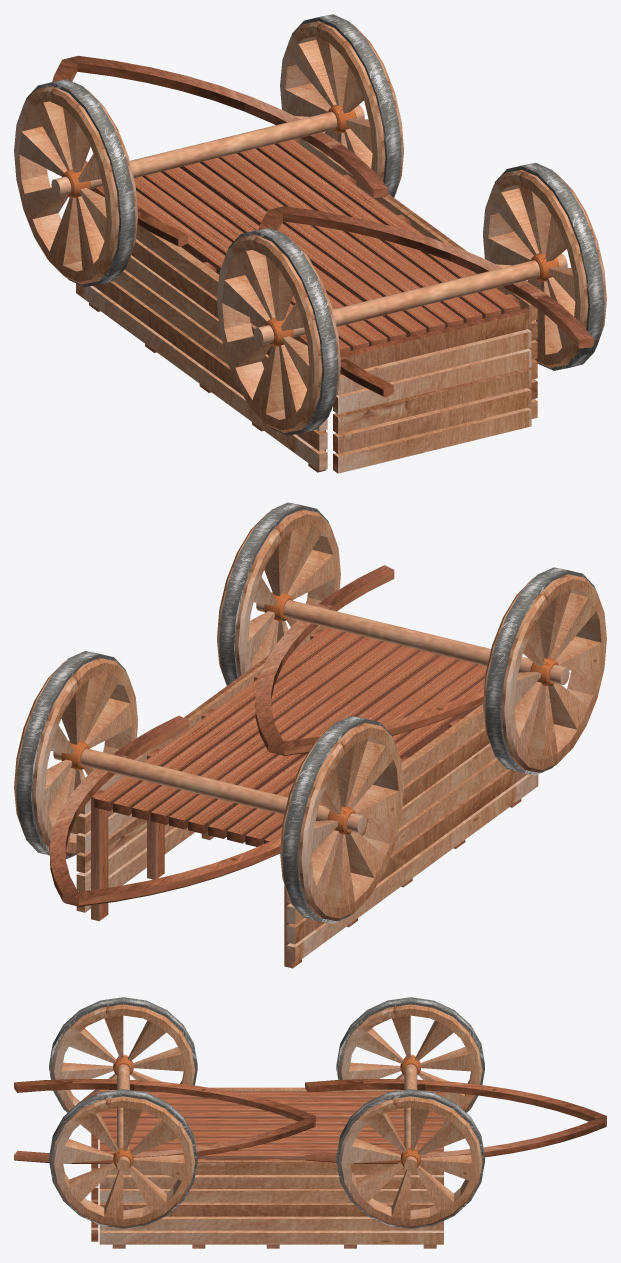
Rendered from Cart_NoCover.fbx.
3 views of the same model, one above another, from view 1: azimuth 30°, elevation 25°; view 2: azimuth 150°, elevation 25°; view 3: azimuth 270°, elevation 25° (orthographic). The views are drawn at different scales.
Visible parts, largest first — view 1: polySurface13; view 2: polySurface13; view 3: polySurface13.
Boxes of the visible parts, x1=… form: polySurface13: x1=14, y1=14, x2=606, y2=473; polySurface13: x1=14, y1=502, x2=606, y2=968; polySurface13: x1=14, y1=997, x2=606, y2=1248.
Size of the model in its own units: 3.46 by 2.59 by 8.25.
Materials: 4 (4 with a texture image).
